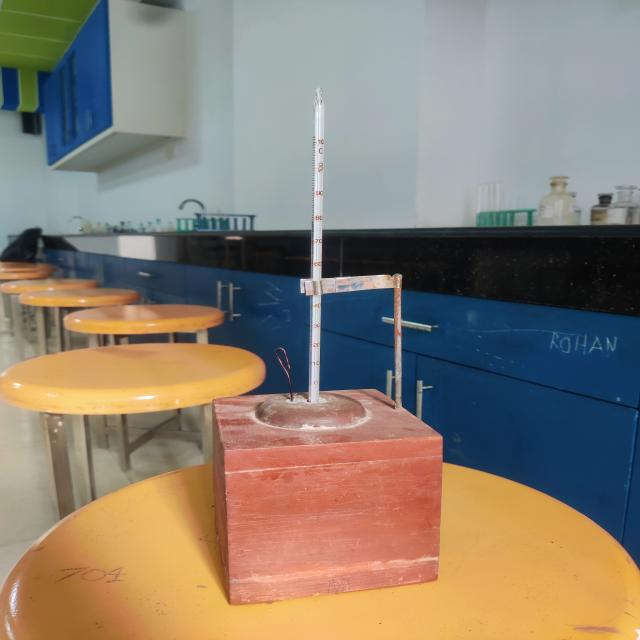Calorimeter: (163, 71, 500, 637)
